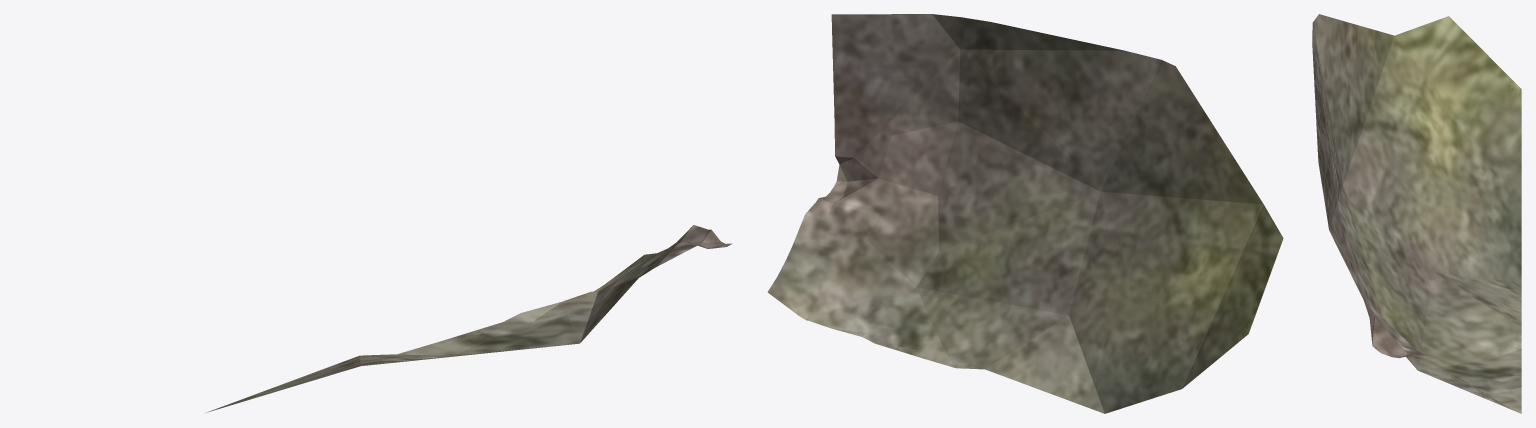
The picture shows the model from 3 angles, left to right: view 1: azimuth 30°, elevation 25°; view 2: azimuth 150°, elevation 25°; view 3: azimuth 270°, elevation 25°; orthographic projection. The views are drawn at different scales.
Bounding box in the file's own units: 5.9 × 3.16 × 2.13.
Materials: 2 (2 with a texture image).
